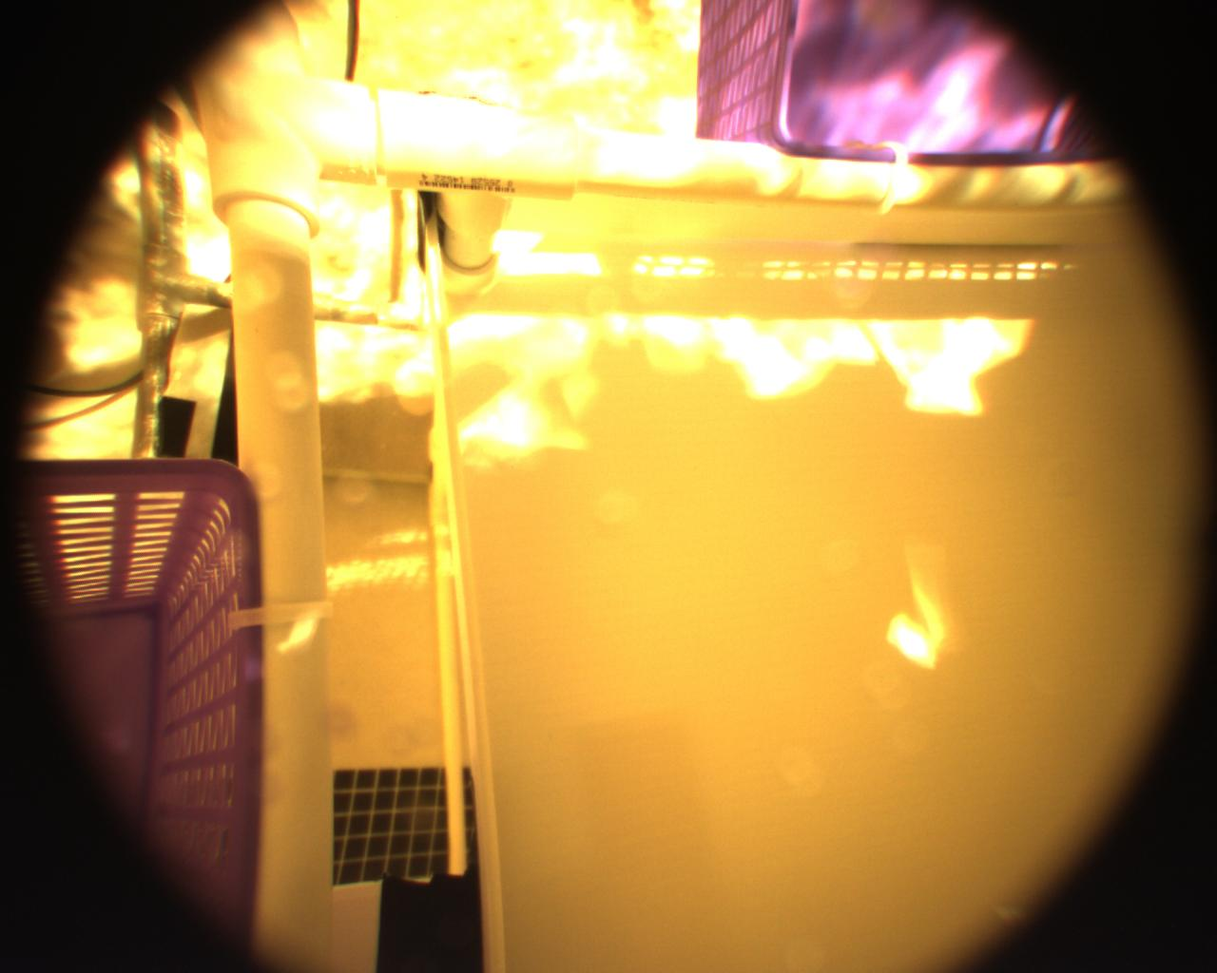coral-box-top: (307, 141, 1213, 970)
